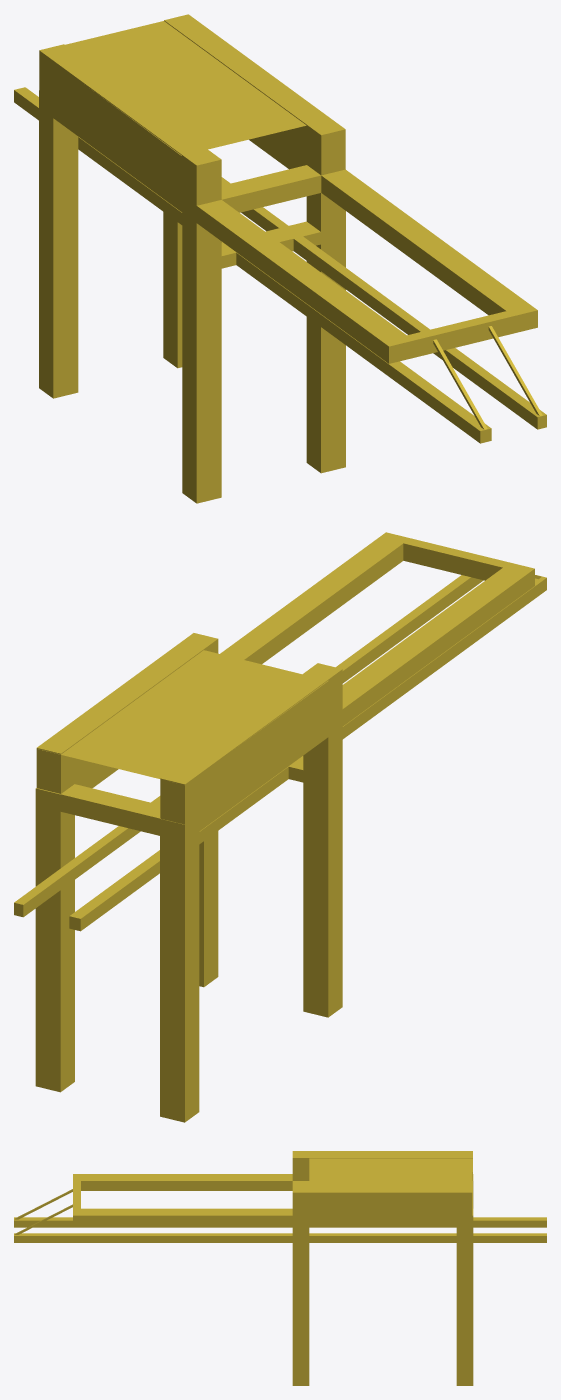
Rendered from crane.fbx.
3 views of the same model, one above another, from view 1: azimuth 30°, elevation 25°; view 2: azimuth 150°, elevation 25°; view 3: azimuth 270°, elevation 25° (orthographic). The views are drawn at different scales.
Visible parts, largest first — view 1: Crane; view 2: Crane; view 3: Crane.
Boxes of the visible parts, x1,y1,x2,y2 form: Crane: [14, 14, 546, 503]; Crane: [14, 532, 546, 1122]; Crane: [14, 1151, 546, 1385].
Bounding box in the file's own units: 1206 × 6500 × 2600.
